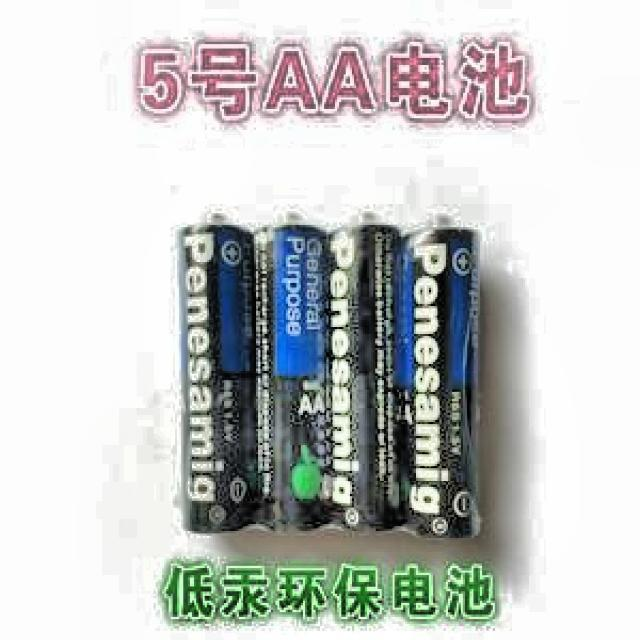battery: (402, 216, 479, 536), (181, 224, 259, 531), (329, 212, 401, 529), (255, 224, 328, 529)
